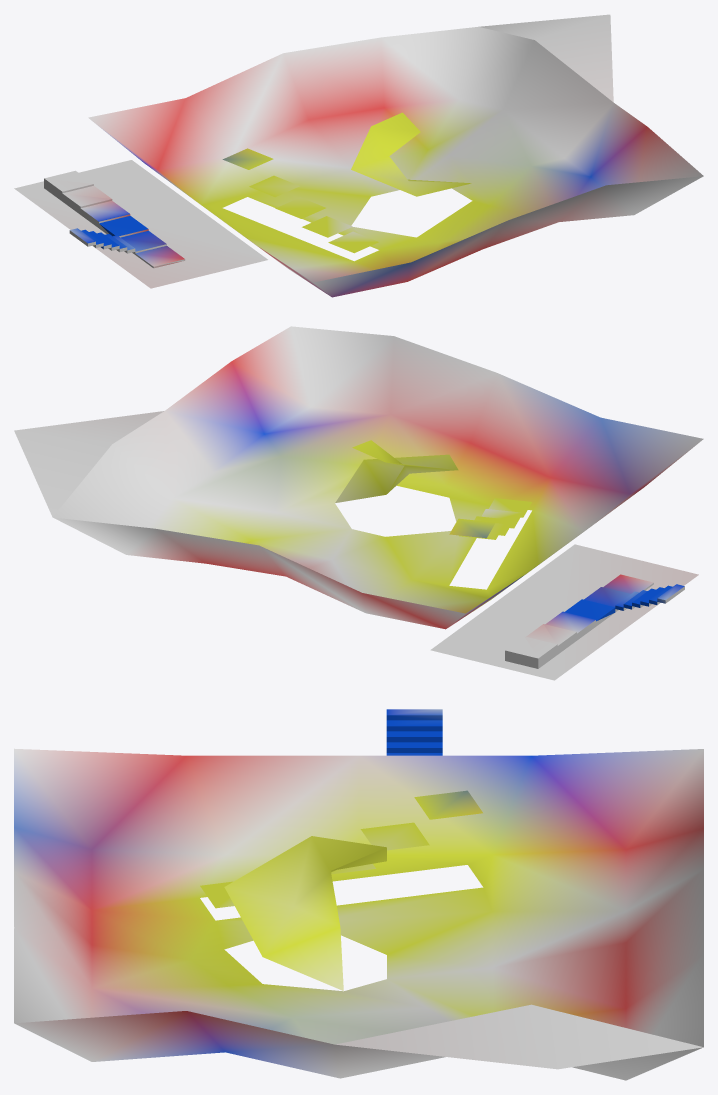
File: texplane0.dae
The picture shows the model from 3 angles, top to bottom: view 1: azimuth 30°, elevation 25°; view 2: azimuth 150°, elevation 25°; view 3: azimuth 270°, elevation 25°; orthographic projection. The views are drawn at different scales.
Visible parts, largest first — view 1: Plane_001_Plane_002; view 2: Plane_001_Plane_002; view 3: Plane_001_Plane_002.
Boxes of the visible parts, x1,y1,x2,y2 form: Plane_001_Plane_002: [14, 14, 703, 297]; Plane_001_Plane_002: [14, 326, 703, 680]; Plane_001_Plane_002: [14, 709, 703, 1080].
Bounding box in the file's own units: 36.61 × 24.72 × 4.68.
